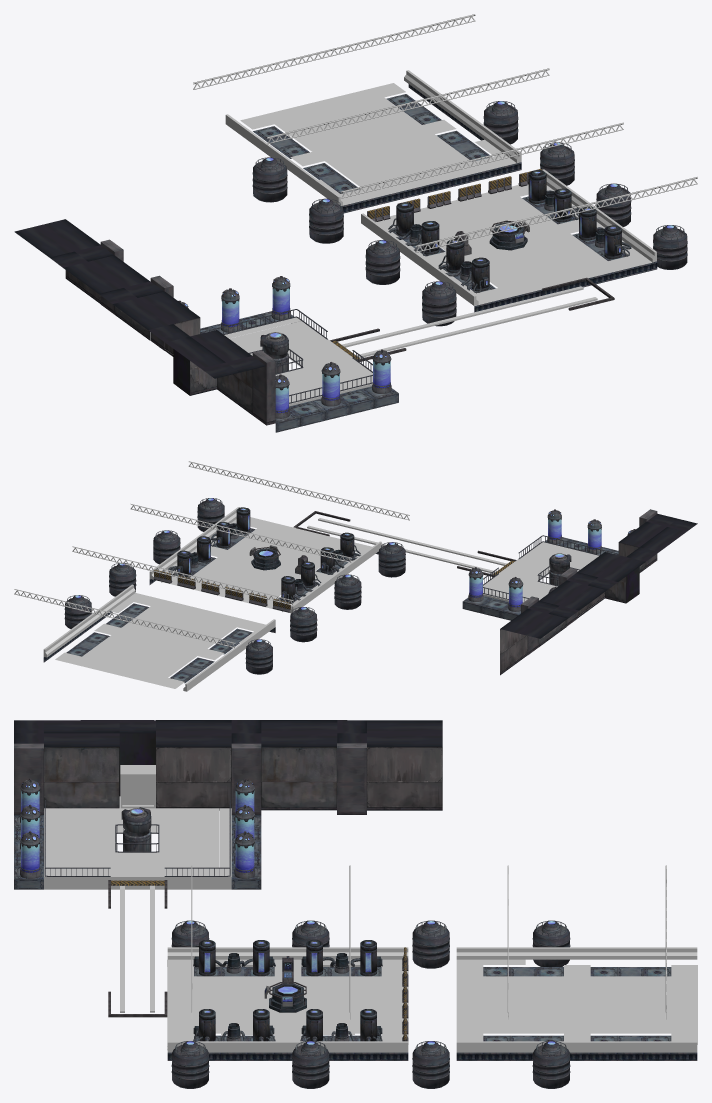
Rendered from Lab.fbx.
3 renders of one model, top to bottom at view 1: azimuth 30°, elevation 25°; view 2: azimuth 150°, elevation 25°; view 3: azimuth 270°, elevation 25°, orthographic. The views are drawn at different scales.
Parts seen in each view (by area): view 1: IMG_6006.006, IMG_6006.003, IMG_6006.005; view 2: IMG_6006.006, IMG_6006.003, IMG_6006.005; view 3: IMG_6006.006, IMG_6006.005, IMG_6006.003.
Part boxes in pixels (x1=…): IMG_6006.006: x1=14, y1=70, x2=687, y2=432; IMG_6006.003: x1=193, y1=14, x2=697, y2=252; IMG_6006.005: x1=185, y1=101, x2=673, y2=412; IMG_6006.006: x1=43, y1=498, x2=697, y2=691; IMG_6006.003: x1=14, y1=461, x2=409, y2=648; IMG_6006.005: x1=75, y1=498, x2=630, y2=609; IMG_6006.006: x1=14, y1=720, x2=697, y2=1088; IMG_6006.005: x1=21, y1=782, x2=555, y2=1044; IMG_6006.003: x1=191, y1=865, x2=666, y2=1019.
Bounding box in the file's own units: 18179 × 2463 × 17823.
